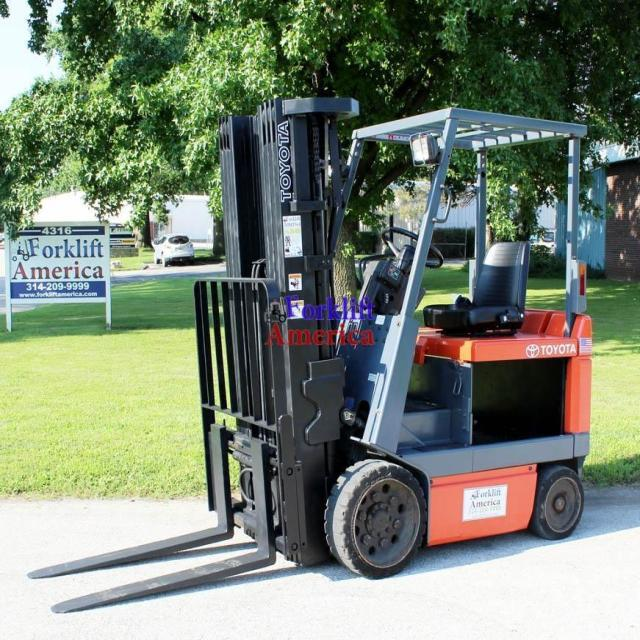forklift: (167, 64, 610, 580)
